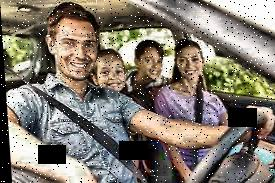seatbelt: (5, 63, 147, 180), (179, 74, 214, 172)
